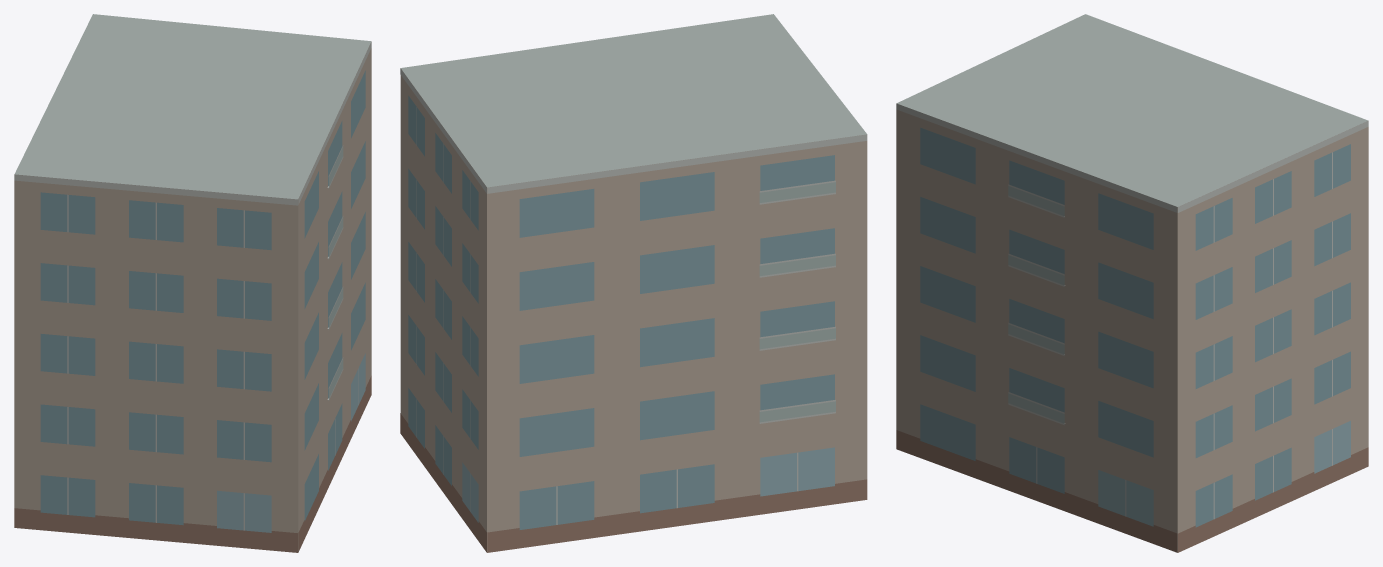
File: survey-upis-32539399.glb
3 renders of one model, left to right at view 1: azimuth 30°, elevation 25°; view 2: azimuth 150°, elevation 25°; view 3: azimuth 270°, elevation 25°, orthographic. The views are drawn at different scales.
Visible parts, largest first — view 1: survey-upis-32539399.tmp; view 2: survey-upis-32539399.tmp; view 3: survey-upis-32539399.tmp.
Boxes of the visible parts, x1,y1,x2,y2 form: survey-upis-32539399.tmp: (14,14,371,552); survey-upis-32539399.tmp: (400,14,867,552); survey-upis-32539399.tmp: (896,14,1368,552).
Bounding box in the file's own units: 16.65 × 13.9 × 17.21.
